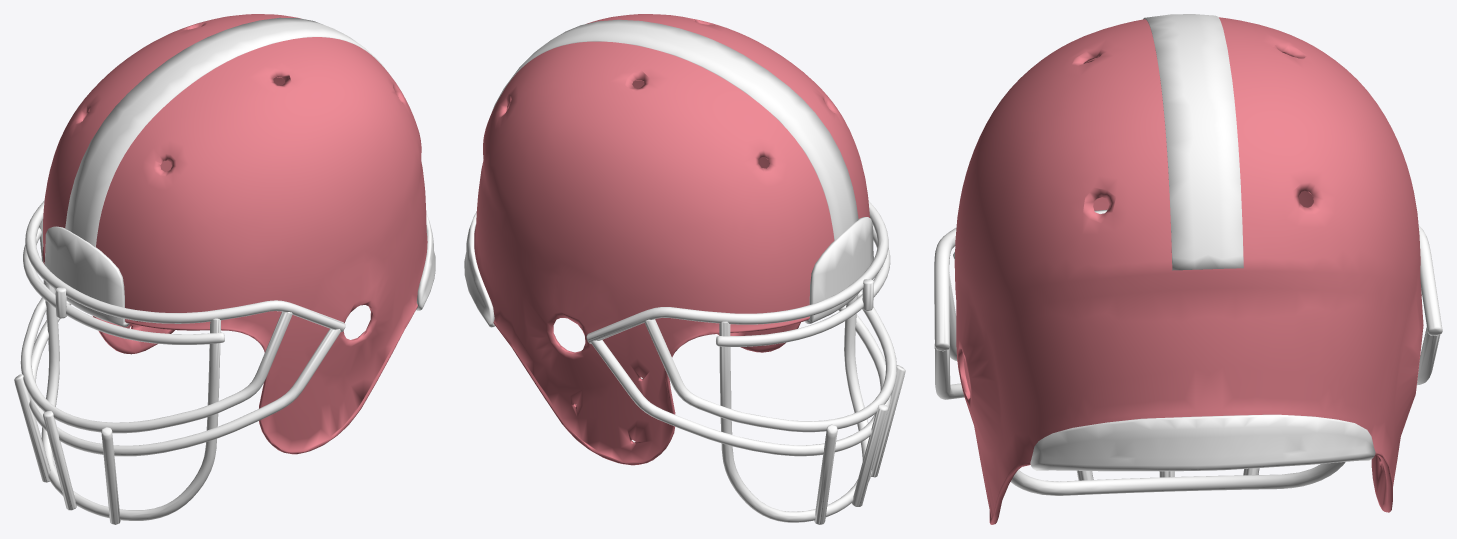
File: Ragbi_HelmetUVDone.fbx
3 renders of one model, left to right at view 1: azimuth 30°, elevation 25°; view 2: azimuth 150°, elevation 25°; view 3: azimuth 270°, elevation 25°, orthographic. The views are drawn at different scales.
Visible parts, largest first — view 1: Helmet_Rugby; view 2: Helmet_Rugby; view 3: Helmet_Rugby.
Boxes of the visible parts, bbox=[...] form: Helmet_Rugby: bbox=[14, 14, 435, 524]; Helmet_Rugby: bbox=[464, 14, 905, 524]; Helmet_Rugby: bbox=[934, 14, 1442, 524].
Size of the model in its own units: 46.2 by 48.56 by 39.28.
